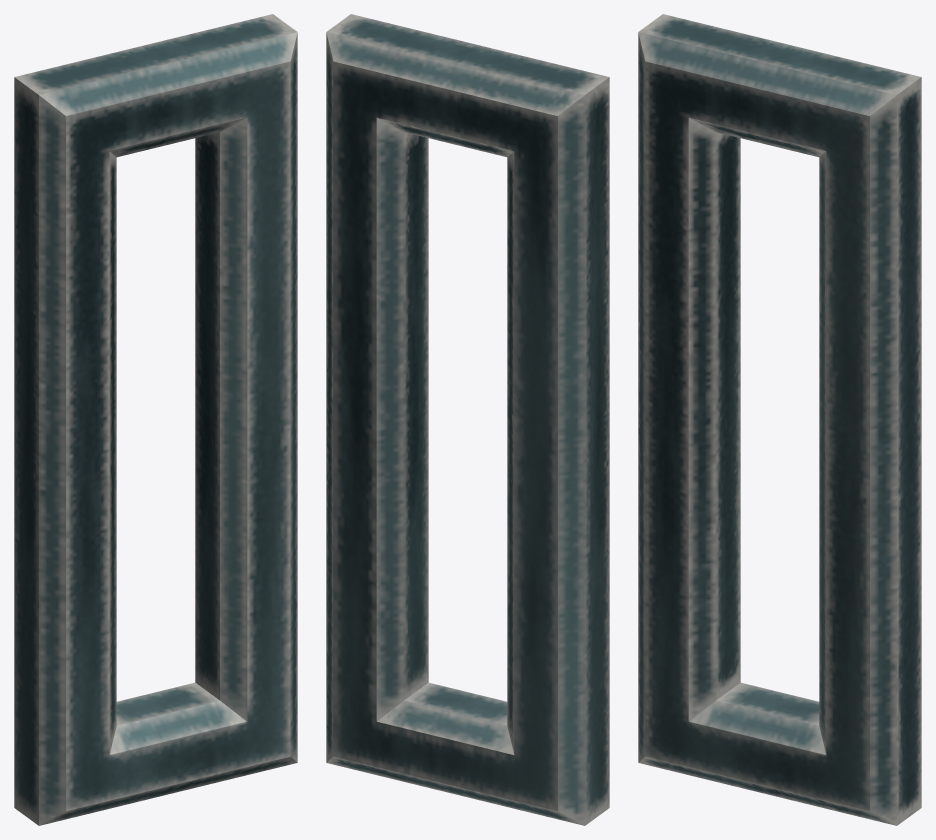
Rendered from Flintlash_ChainLink.fbx.
3 renders of one model, left to right at view 1: azimuth 30°, elevation 25°; view 2: azimuth 150°, elevation 25°; view 3: azimuth 330°, elevation 25°, orthographic.
Parts seen in each view (by area): view 1: Flintlash_ChainLink; view 2: Flintlash_ChainLink; view 3: Flintlash_ChainLink.
Part boxes in pixels (x1,y1,x2,y2): Flintlash_ChainLink: [14, 14, 297, 825]; Flintlash_ChainLink: [326, 14, 609, 825]; Flintlash_ChainLink: [638, 14, 921, 825].
Size of the model in its own units: 0.1 by 0.27 by 0.03.
